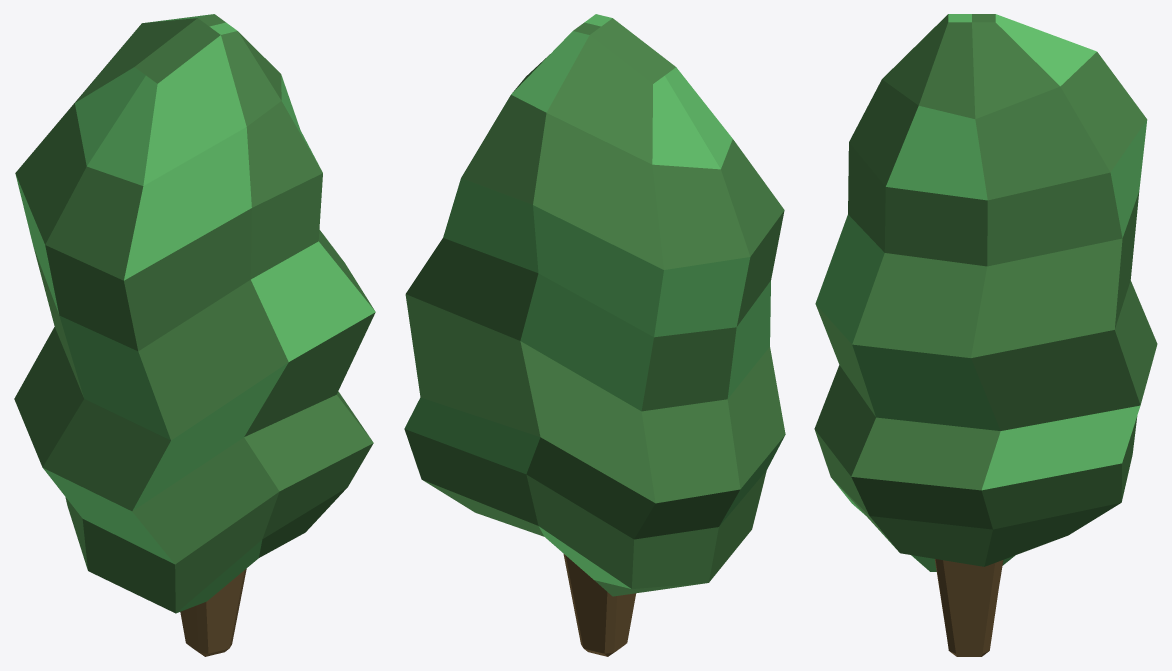
The model's file is Tree_2_Green.fbx.
3 views of the same model, side by side, from view 1: azimuth 30°, elevation 25°; view 2: azimuth 150°, elevation 25°; view 3: azimuth 270°, elevation 25° (orthographic). The views are drawn at different scales.
Visible parts, largest first — view 1: Tree_2_Green_Part_2, Tree_2_Green_Part_3, Tree_2_Green_Part_1; view 2: Tree_2_Green_Part_2, Tree_2_Green_Part_3, Tree_2_Green_Part_1; view 3: Tree_2_Green_Part_2, Tree_2_Green_Part_3, Tree_2_Green_Part_1.
Part boxes in pixels (x1=…): Tree_2_Green_Part_2: x1=14, y1=14, x2=375, y2=613; Tree_2_Green_Part_3: x1=15, y1=14, x2=375, y2=613; Tree_2_Green_Part_1: x1=180, y1=568, x2=246, y2=656; Tree_2_Green_Part_2: x1=404, y1=18, x2=785, y2=596; Tree_2_Green_Part_3: x1=404, y1=14, x2=784, y2=588; Tree_2_Green_Part_1: x1=563, y1=553, x2=635, y2=656; Tree_2_Green_Part_2: x1=814, y1=14, x2=1157, y2=566; Tree_2_Green_Part_3: x1=815, y1=14, x2=1147, y2=571; Tree_2_Green_Part_1: x1=935, y1=559, x2=1003, y2=656.
Bounding box in the file's own units: 237 × 483 × 235.
